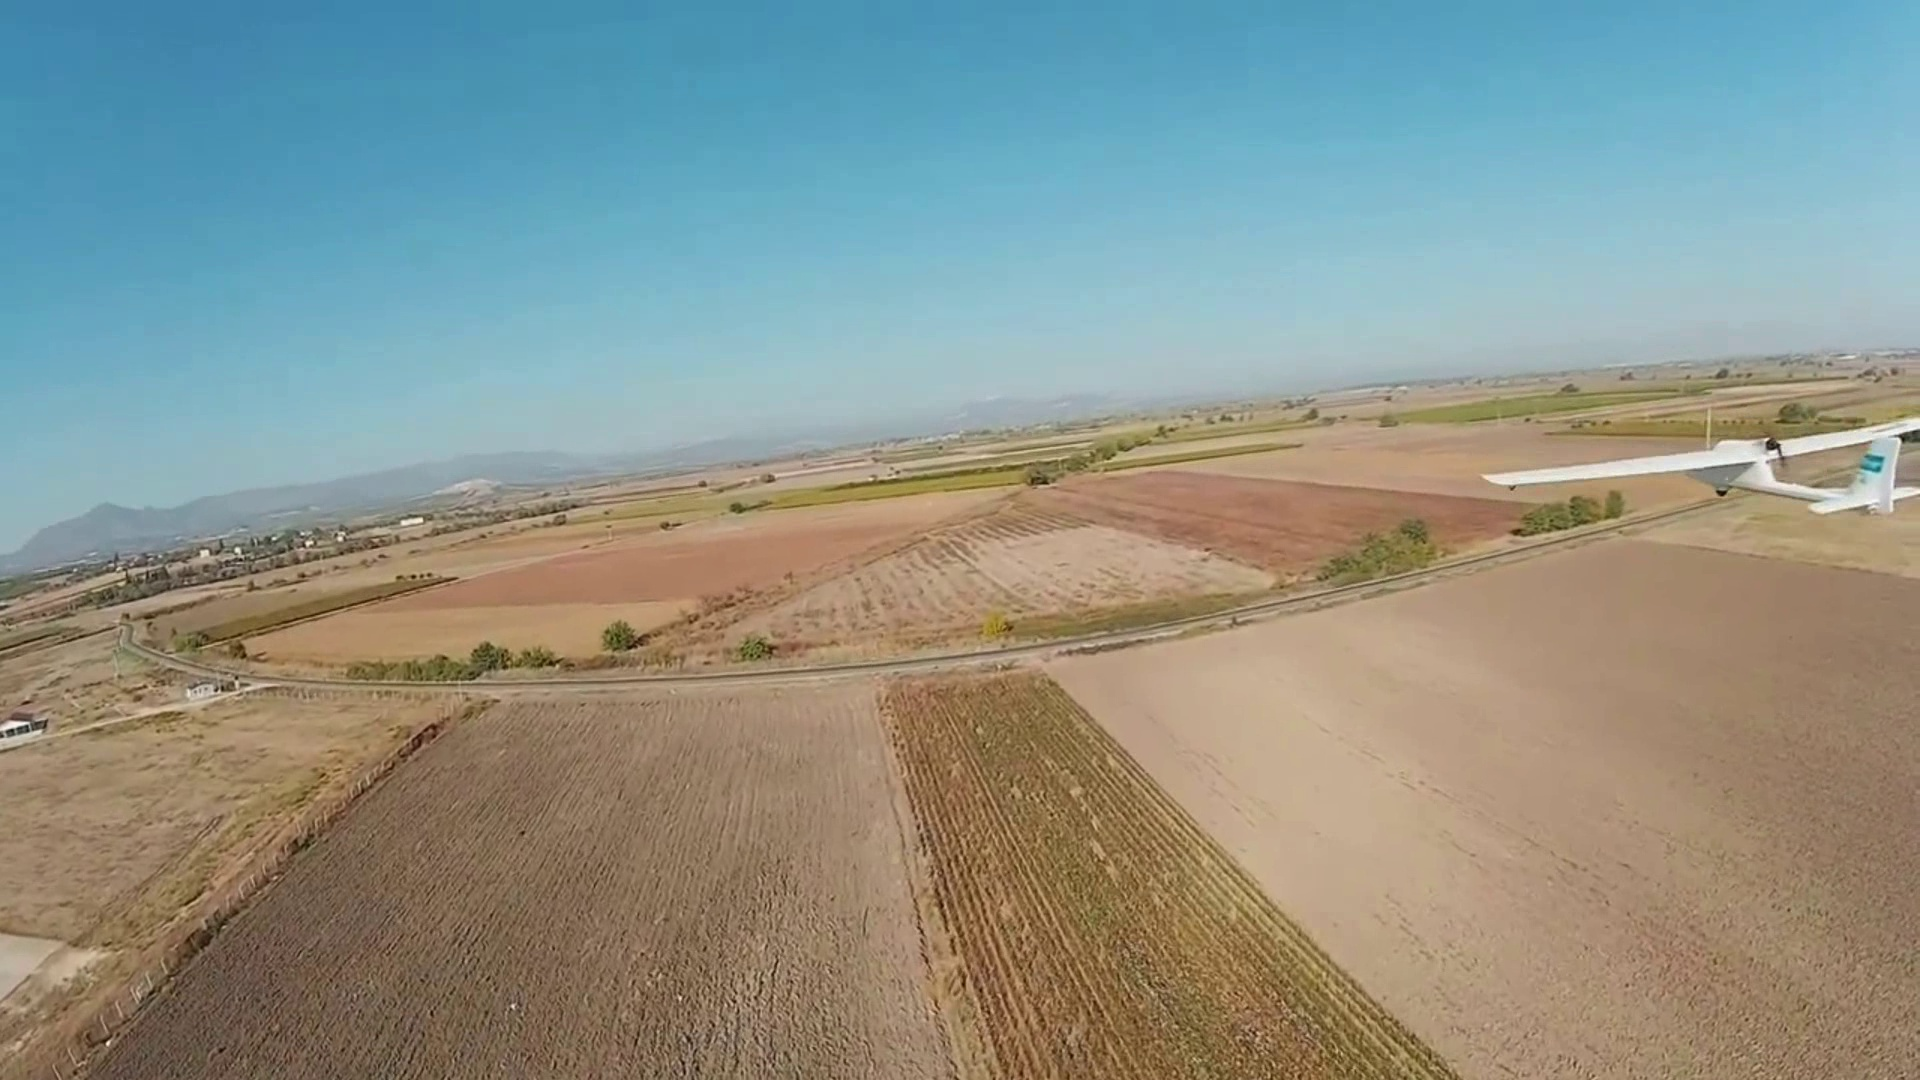airplane: (1475, 415, 1915, 522)
